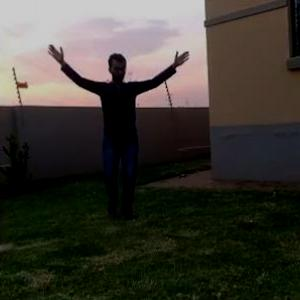takeoff: (50, 48, 190, 212)
